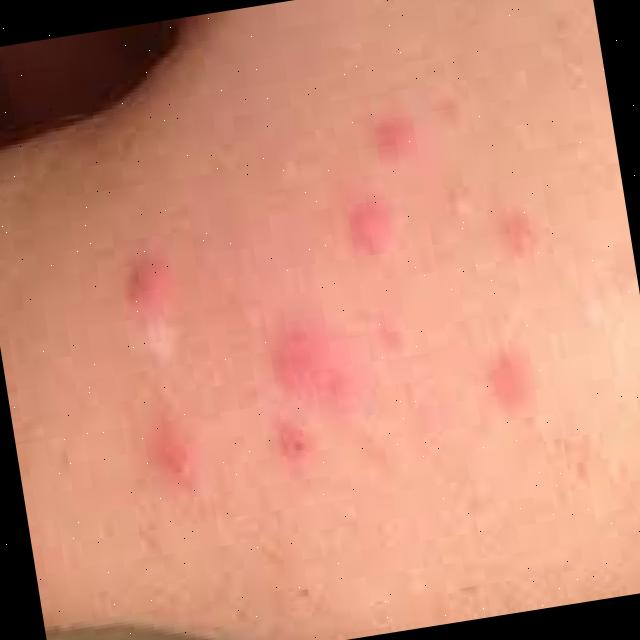kan emici bocekler: (232, 302, 413, 479), (150, 407, 211, 494), (113, 257, 186, 318), (482, 349, 541, 415), (346, 198, 398, 260), (373, 116, 422, 175), (497, 215, 541, 260)
